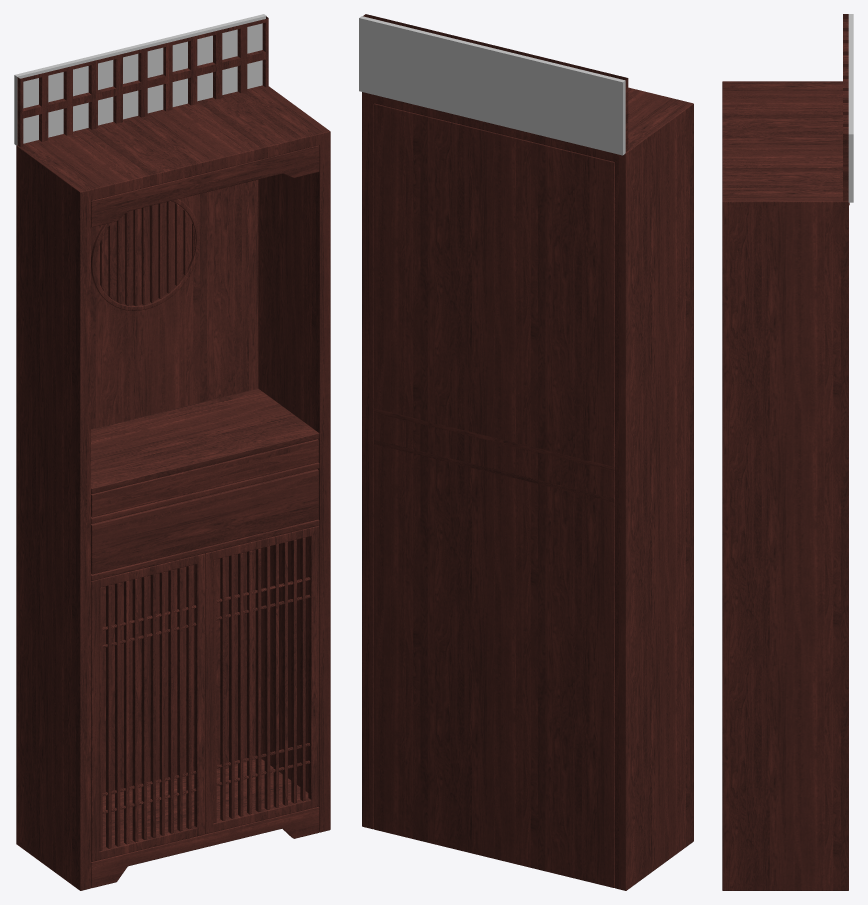
The picture shows the model from 3 angles, left to right: view 1: azimuth 30°, elevation 25°; view 2: azimuth 150°, elevation 25°; view 3: azimuth 270°, elevation 25°; orthographic projection. The views are drawn at different scales.
Visible parts, largest first — view 1: XD-神龛; view 2: XD-神龛; view 3: XD-神龛.
Boxes of the visible parts, x1=… form: XD-神龛: x1=14, y1=14, x2=330, y2=890; XD-神龛: x1=359, y1=14, x2=693, y2=890; XD-神龛: x1=722, y1=14, x2=853, y2=890.
Bounding box in the file's own units: 0.9 × 0.415 × 2.63.
